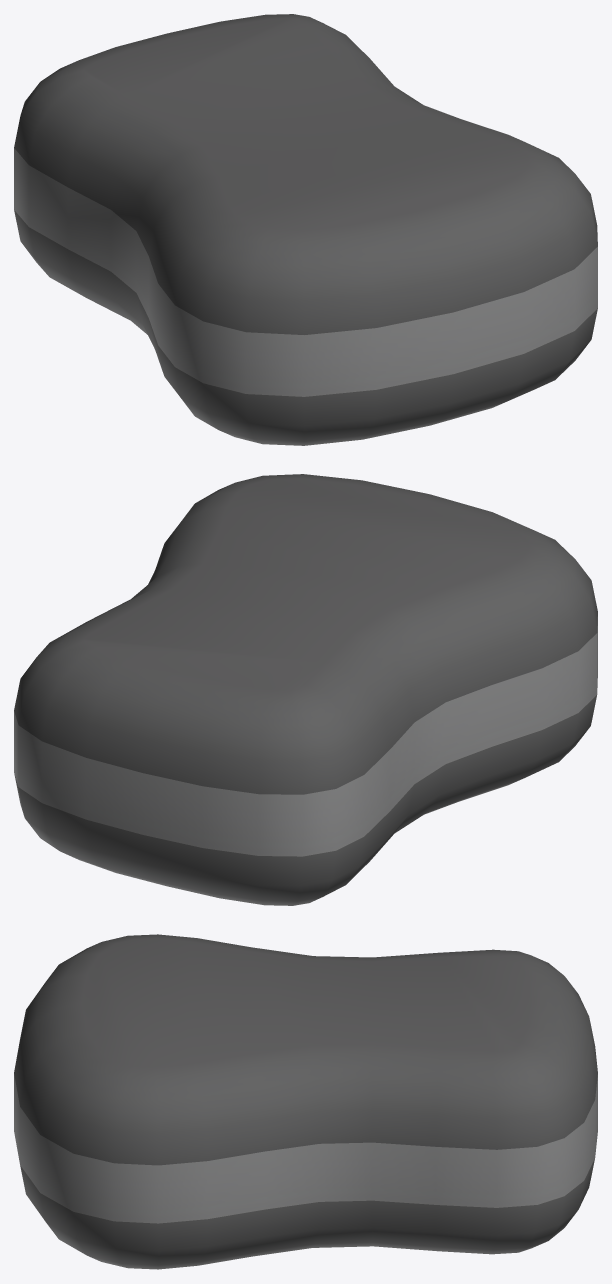
The model's file is Loofah_001.fbx.
3 renders of one model, top to bottom at view 1: azimuth 30°, elevation 25°; view 2: azimuth 150°, elevation 25°; view 3: azimuth 270°, elevation 25°, orthographic. The views are drawn at different scales.
Parts seen in each view (by area): view 1: Loofah_001; view 2: Loofah_001; view 3: Loofah_001.
Part boxes in pixels (x1=…): Loofah_001: x1=14, y1=14, x2=597, y2=445; Loofah_001: x1=14, y1=474, x2=597, y2=905; Loofah_001: x1=14, y1=934, x2=597, y2=1269.
Size of the model in its own units: 11.11 by 14.82 by 5.55.
